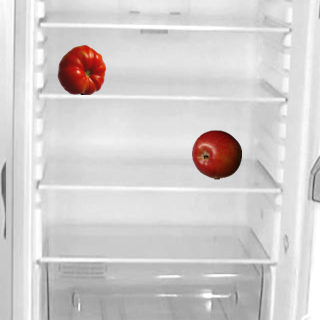Apple Braeburn: (191, 129, 241, 179)
Tomato 3: (56, 44, 106, 94)
